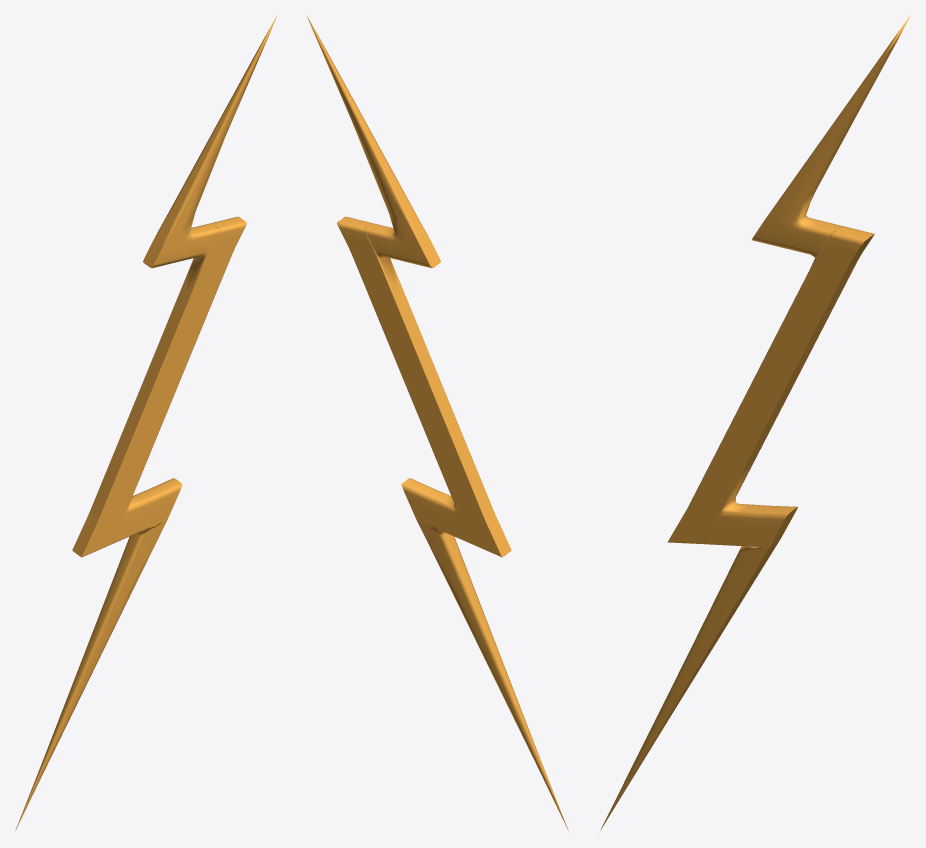
File: ZeusWeapon.fbx
3 renders of one model, left to right at view 1: azimuth 30°, elevation 25°; view 2: azimuth 150°, elevation 25°; view 3: azimuth 330°, elevation 25°, orthographic. The views are drawn at different scales.
Visible parts, largest first — view 1: Cube; view 2: Cube; view 3: Cube.
Boxes of the visible parts, box(x1,y1,x2,y2) form: Cube: box(15, 15, 277, 830); Cube: box(306, 15, 568, 830); Cube: box(599, 15, 910, 832).
Size of the model in its own units: 1569 by 4293 by 98.02.
